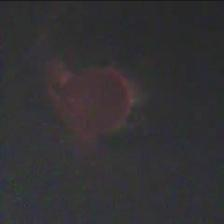fertile: (57, 62, 139, 135)
